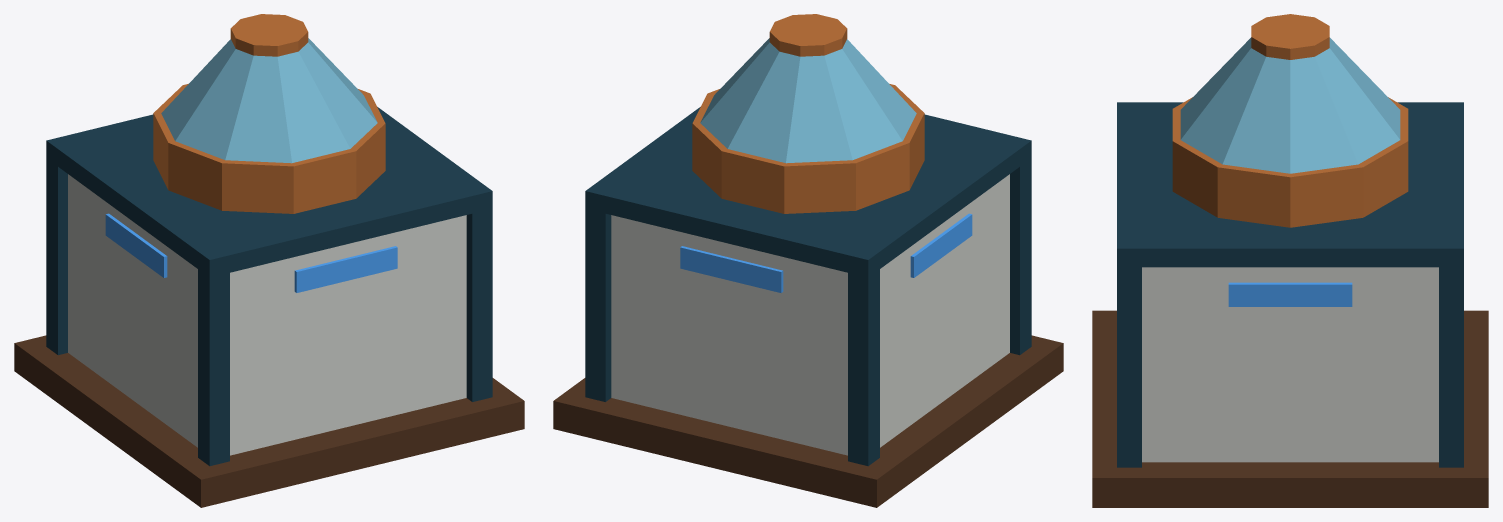
Rendered from research_lab.obj.
3 renders of one model, left to right at view 1: azimuth 30°, elevation 25°; view 2: azimuth 150°, elevation 25°; view 3: azimuth 270°, elevation 25°, orthographic. The views are drawn at different scales.
Visible parts, largest first — view 1: Body, Dome; view 2: Body, Dome; view 3: Body, Dome.
Part boxes in pixels (x1=…): Body: x1=14, y1=107, x2=524, y2=507; Dome: x1=153, y1=14, x2=385, y2=213; Body: x1=553, y1=107, x2=1063, y2=507; Dome: x1=692, y1=14, x2=924, y2=213; Body: x1=1092, y1=102, x2=1488, y2=507; Dome: x1=1172, y1=14, x2=1408, y2=227.
Bounding box in the file's own units: 0.96 × 1.05 × 0.96.
